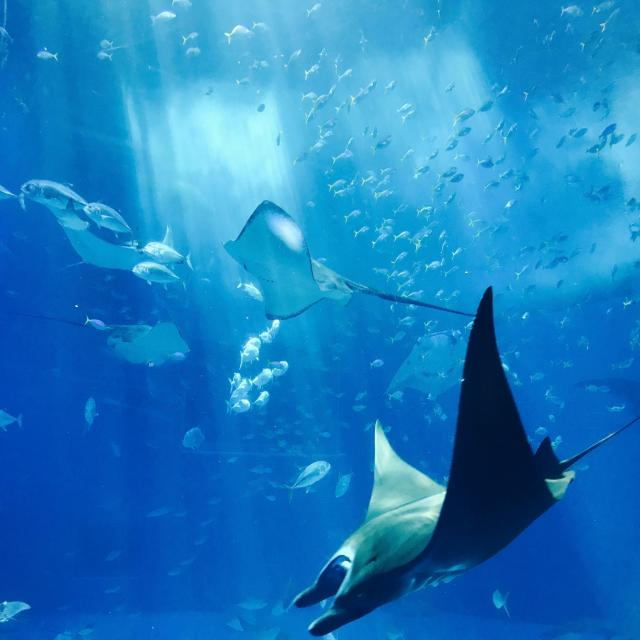stingray: (223, 201, 614, 636), (58, 214, 141, 270), (108, 323, 189, 363)
